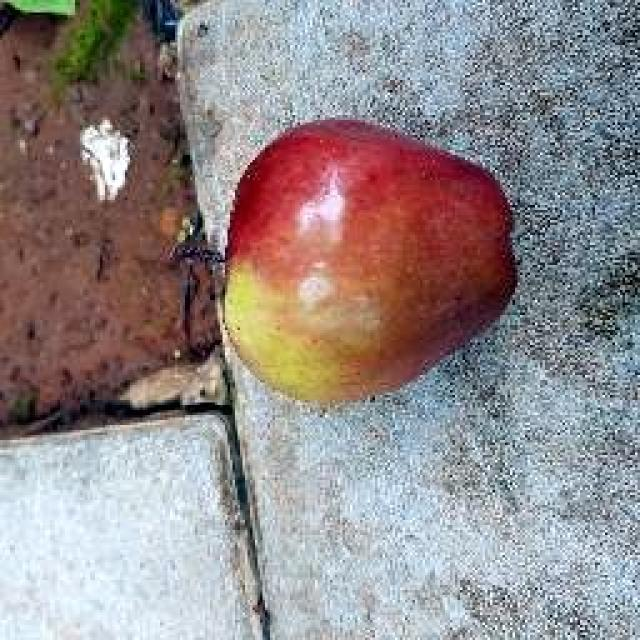Good_Apple: (220, 118, 518, 408)
